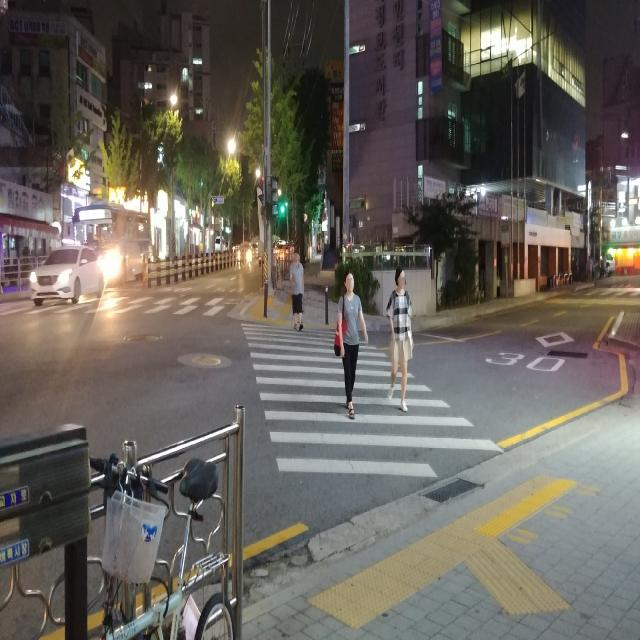횡단보도: (239, 320, 506, 481), (1, 285, 226, 321)
